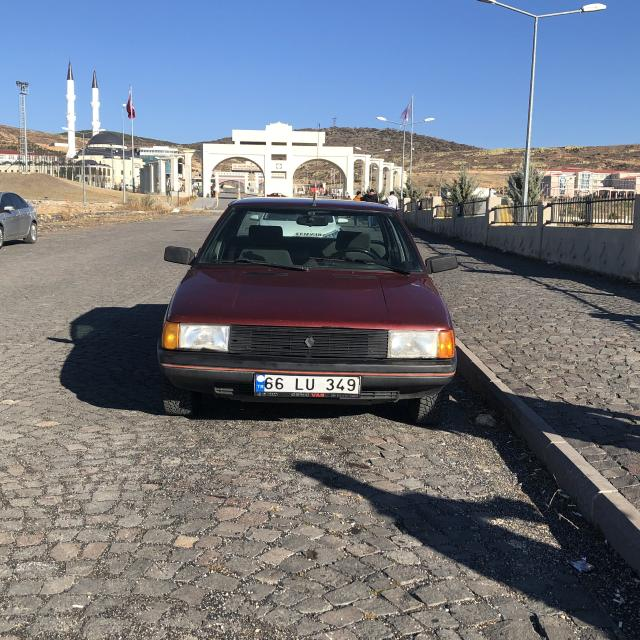license_plate: (256, 374, 361, 394)
